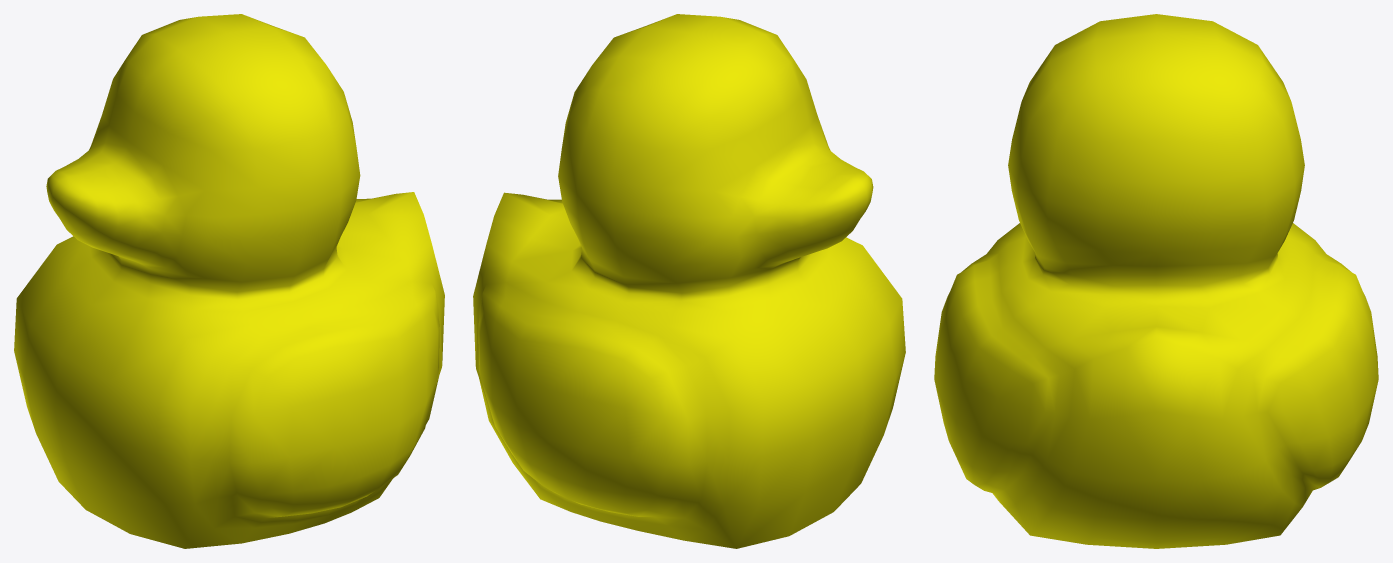
The model's file is duck.glb.
3 views of the same model, side by side, from view 1: azimuth 30°, elevation 25°; view 2: azimuth 150°, elevation 25°; view 3: azimuth 270°, elevation 25° (orthographic). The views are drawn at different scales.
Visible parts, largest first — view 1: duck; view 2: duck; view 3: duck.
Boxes of the visible parts, x1,y1,x2,y2 form: duck: (14,14,444,548); duck: (473,14,905,548); duck: (934,14,1378,548).
Size of the model in its own units: 0.8975 by 1.01 by 0.8919.
